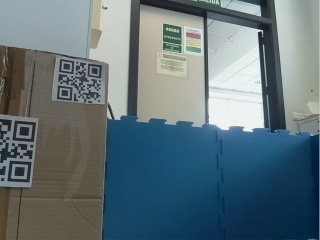caja: (1, 44, 108, 240)
